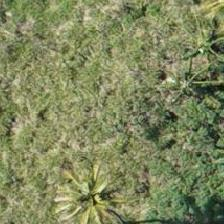coconut_tree: (38, 152, 128, 223)
